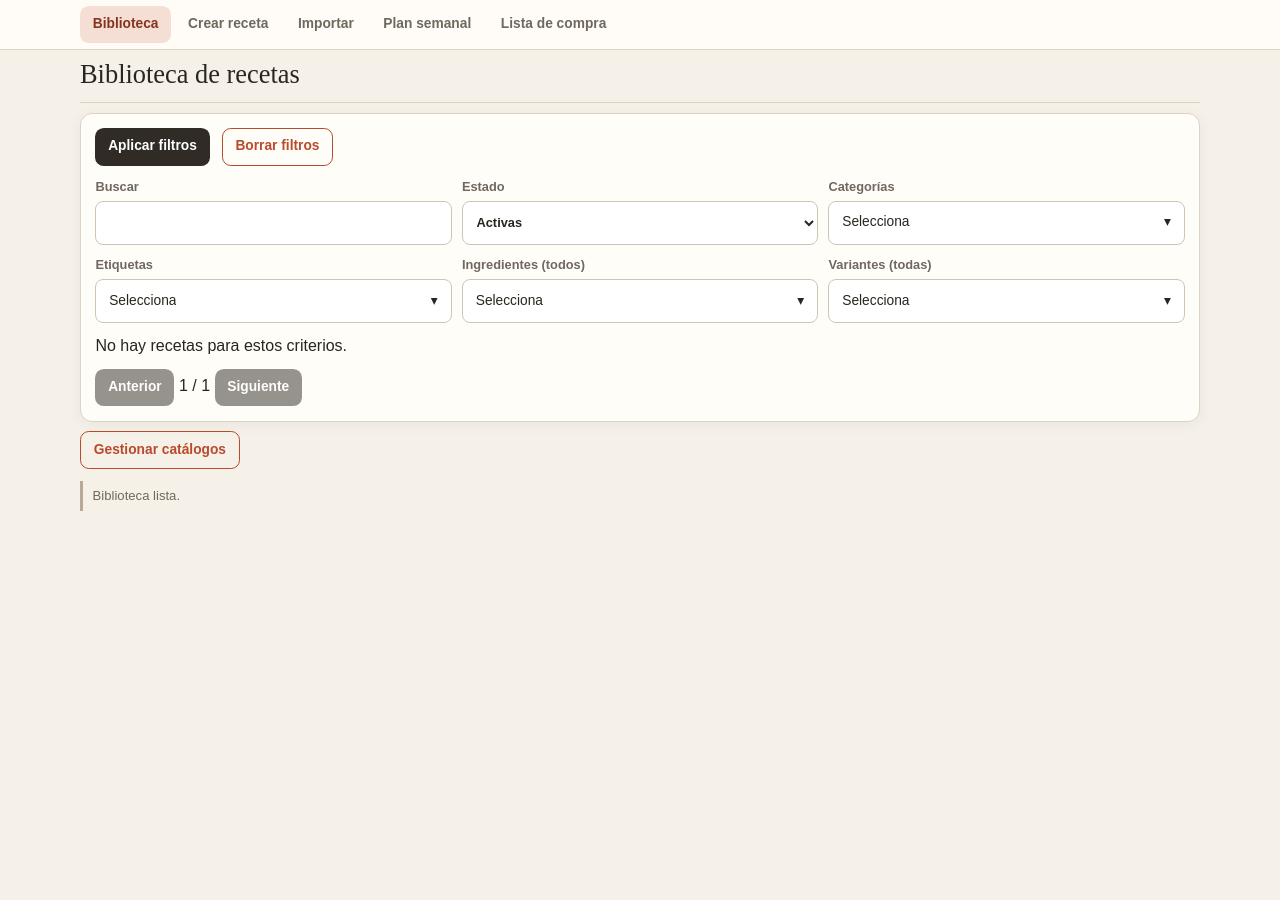
Test: KitchenApp › navigates between one workspace at a time
Check: the heading "Biblioteca de recetas" is shown, box [80,59,300,89]
Check: the field labelled "Nombre" is not shown
Click the button "Crear receta".
click(228, 24)  # box [175,6,281,43]
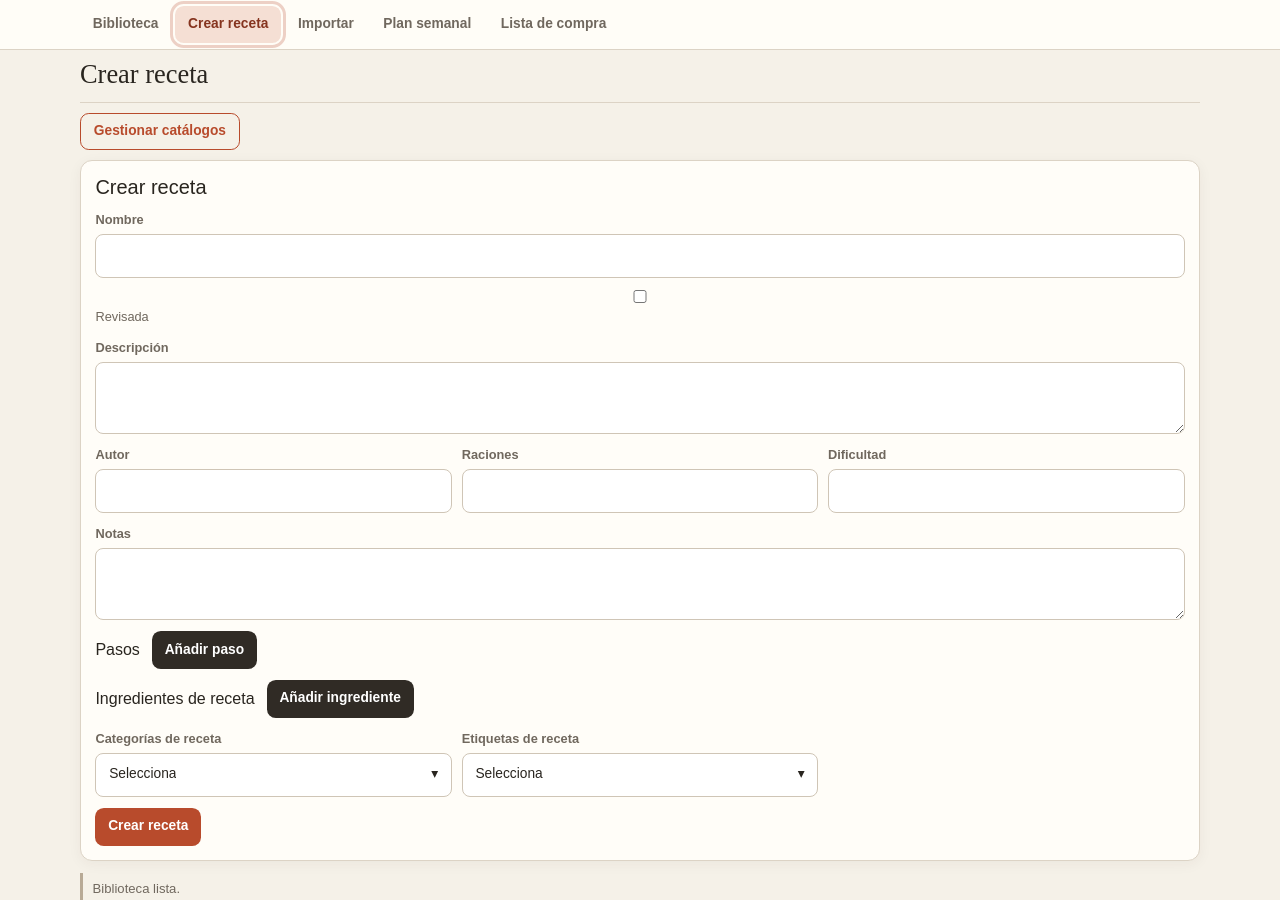
Check: the field labelled "Nombre" is shown, box [95,234,1185,278]
Check: the label labelled "Buscar" is gone
Click the button "Plan semanal".
click(427, 24)  # box [370,6,484,43]
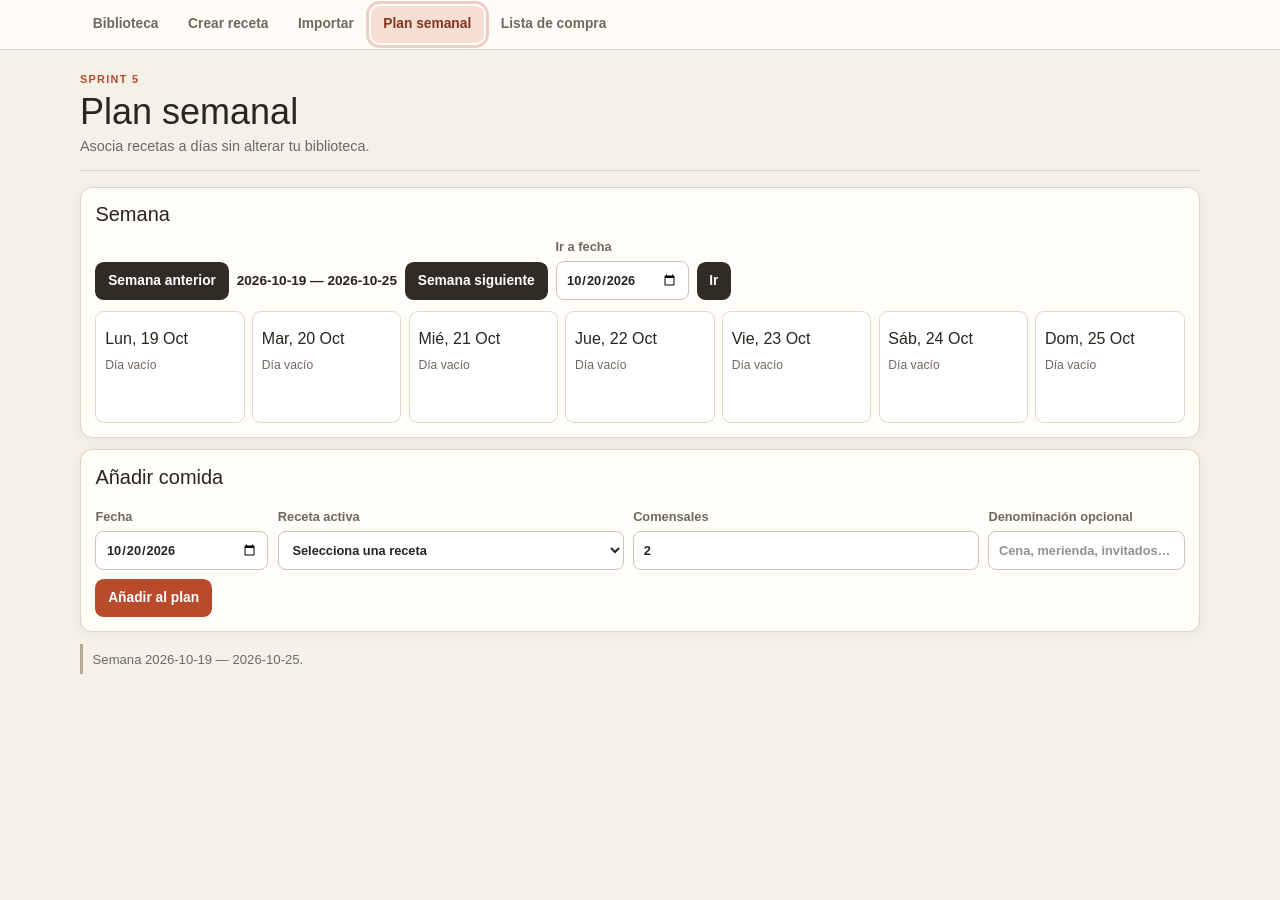
Check: the heading "Biblioteca de recetas" is not shown
Check: the heading "Plan semanal" is shown, box [80,91,298,132]
